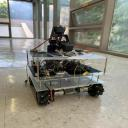cart: (26, 50, 110, 106)
